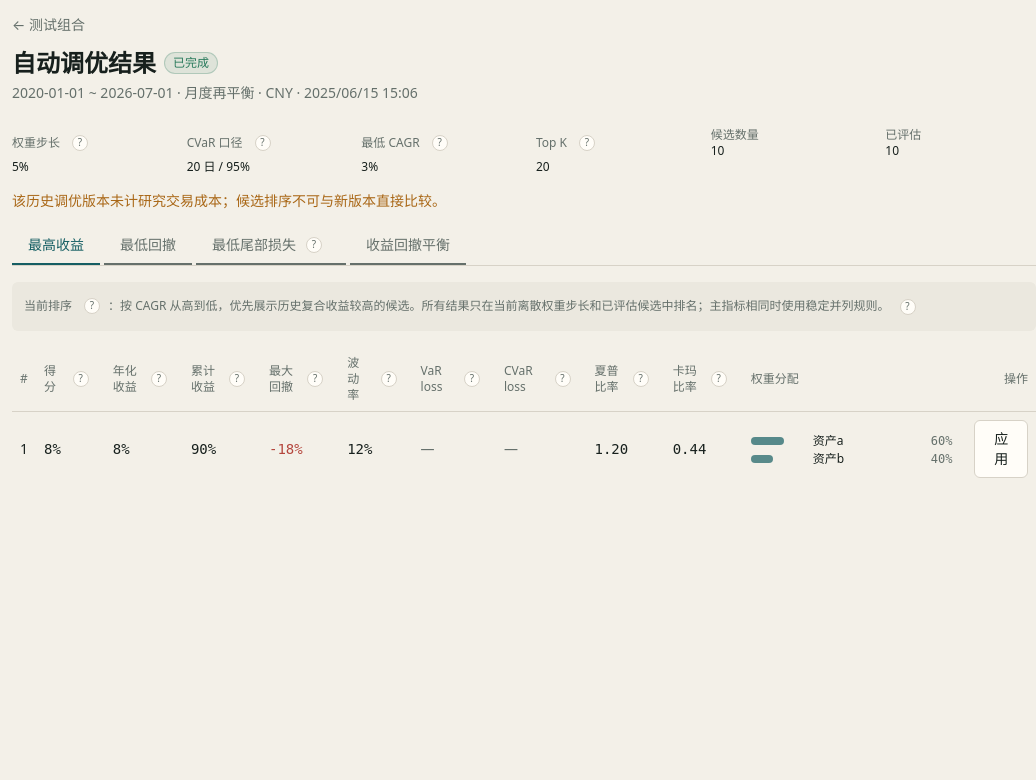
it: OptimizationDetailPage › renders metric help in Chinese
This screenshot has width=1036, height=780.
Check: the text "夏普比率" is shown, box [594, 363, 621, 395]
Check: the text "卡玛比率" is shown, box [673, 363, 699, 395]
Hover over the button named "查看「Sharpe 比率」说明": (641, 379) [633, 371, 649, 387]
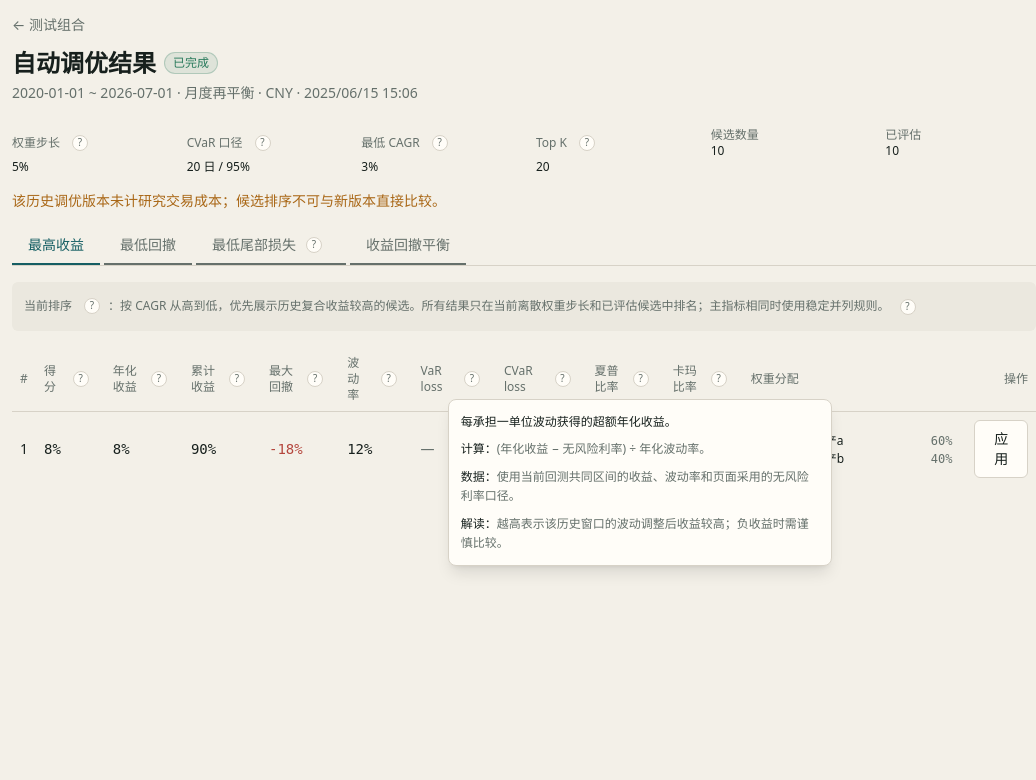
Check: the text "每承担一单位波动获得的超额年化收益。" is shown, box [461, 413, 677, 430]
